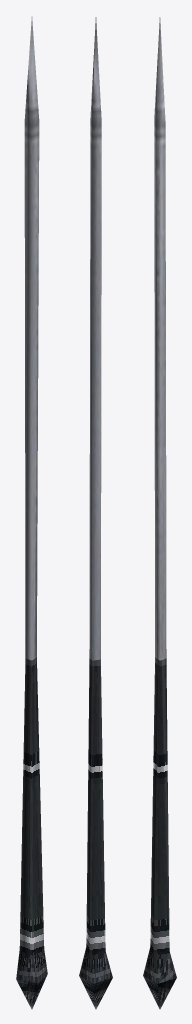
Rendered from wp_mle_lance_controller_l2.fbx.
3 renders of one model, left to right at view 1: azimuth 90°, elevation 25°; view 2: azimuth 150°, elevation 25°; view 3: azimuth 330°, elevation 25°, orthographic.
Parts seen in each view (by area): view 1: mesh_node; view 2: mesh_node; view 3: mesh_node.
Boxes of the visible parts, x1=… form: mesh_node: x1=16, y1=16, x2=47, y2=1009; mesh_node: x1=79, y1=17, x2=112, y2=1009; mesh_node: x1=143, y1=17, x2=176, y2=1009.
Size of the model in its own units: 0.0491 by 1.71 by 0.0491.
